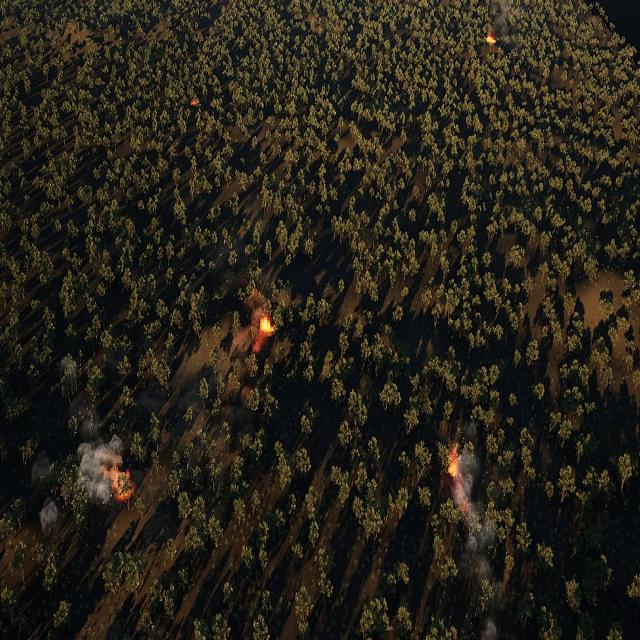fire: (112, 470, 134, 504), (448, 447, 461, 479), (261, 317, 274, 335), (488, 33, 496, 44), (190, 99, 197, 107)
smoke: (26, 410, 120, 520), (455, 420, 502, 582), (491, 0, 553, 37), (243, 290, 271, 363), (39, 500, 60, 532), (480, 616, 500, 640)
